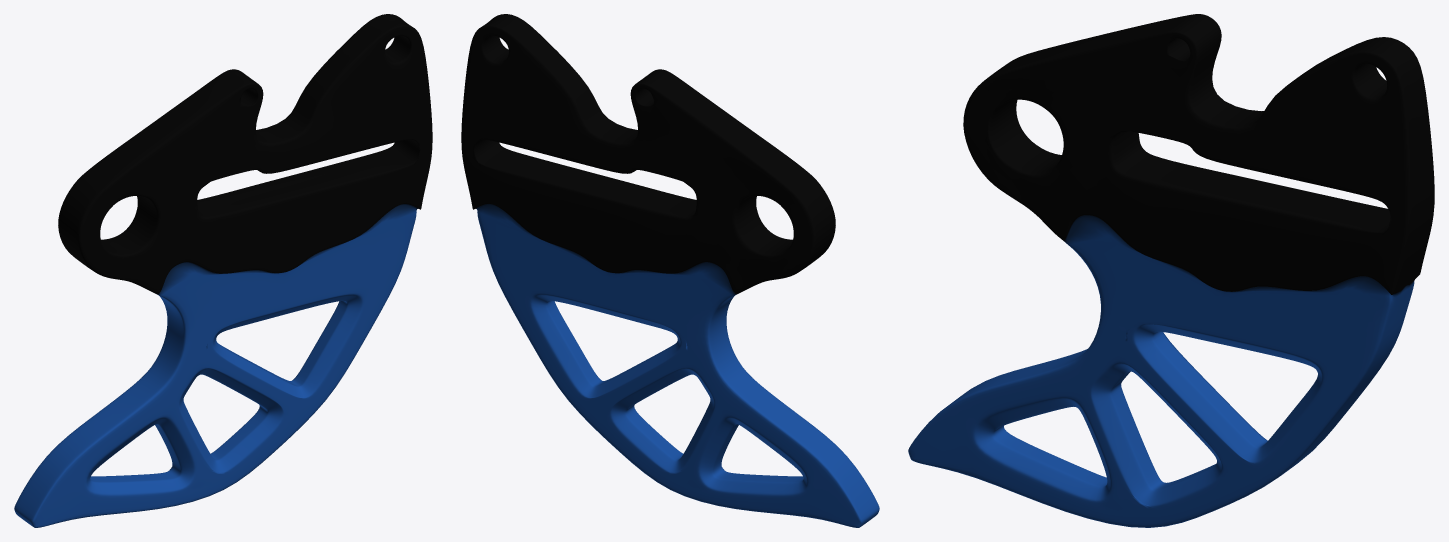
The model's file is étrier de frein.glb.
The picture shows the model from 3 angles, left to right: view 1: azimuth 30°, elevation 25°; view 2: azimuth 150°, elevation 25°; view 3: azimuth 330°, elevation 25°; orthographic projection. The views are drawn at different scales.
Parts seen in each view (by area): view 1: Cube; view 2: Cube; view 3: Cube.
Boxes of the visible parts, x1=… form: Cube: x1=14, y1=14, x2=432, y2=527; Cube: x1=461, y1=14, x2=879, y2=527; Cube: x1=908, y1=14, x2=1434, y2=527.
Size of the model in its own units: 6.03 by 6.13 by 0.5992.
Materials: 1 (1 with a texture image).
